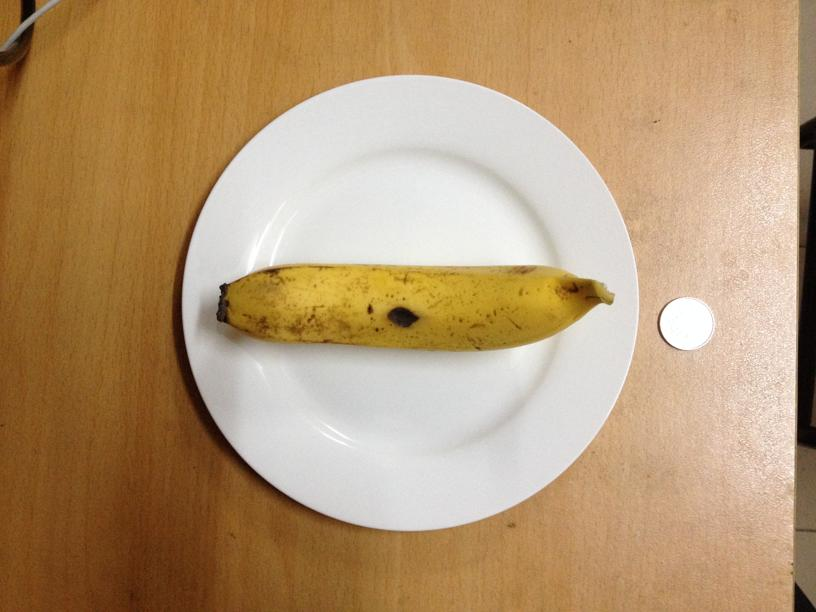banana: (216, 260, 609, 352)
coin: (655, 294, 714, 350)
